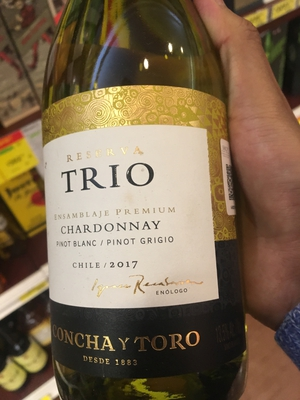trio chardonnay: (35, 23, 255, 400)
